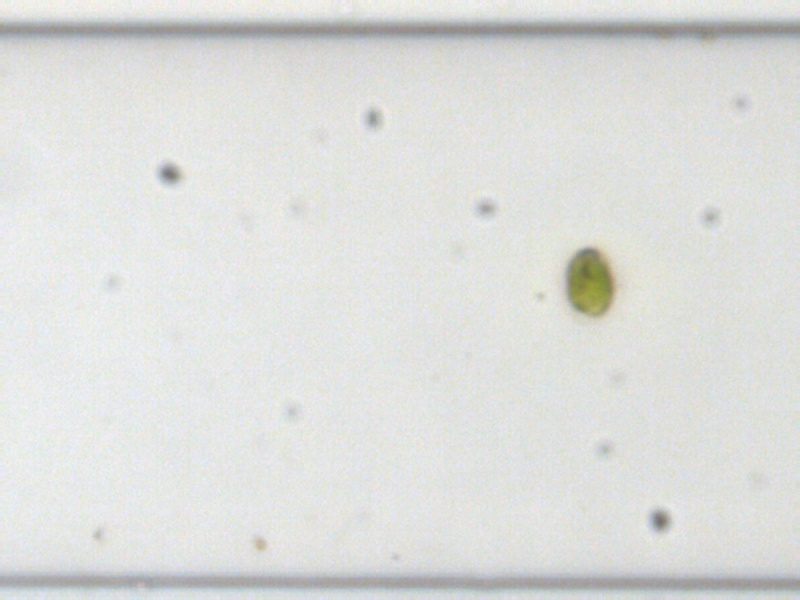Chlorella: (252, 533, 270, 550)
Platymonas: (563, 245, 615, 321)
